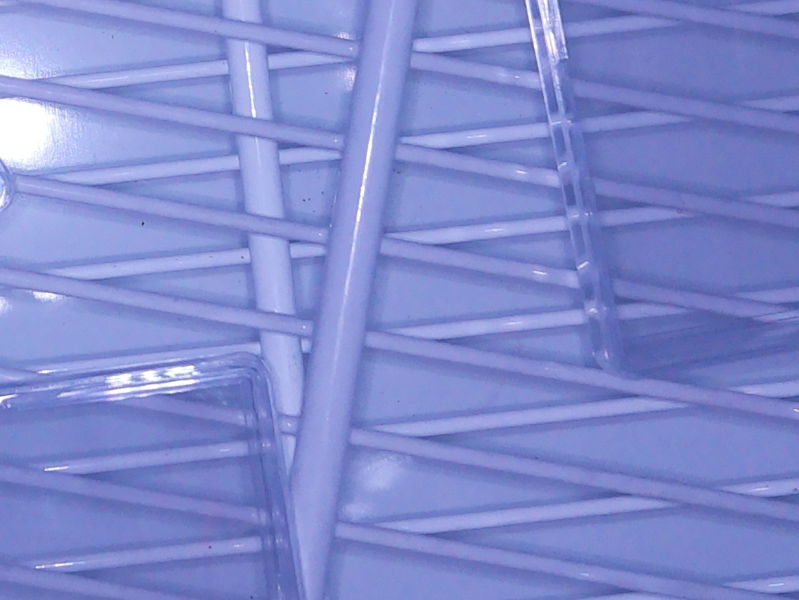plate: (518, 1, 799, 382), (1, 351, 307, 600)
